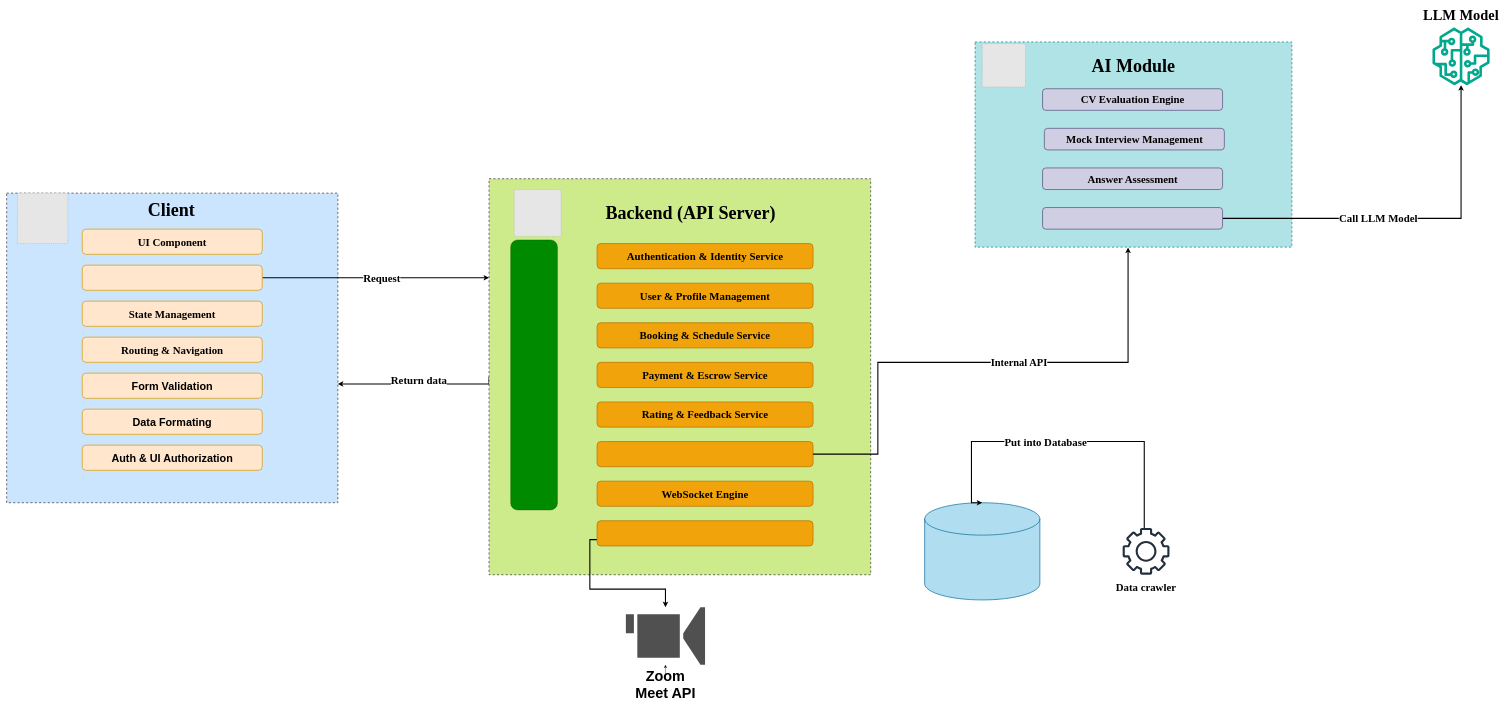
Some shapes in this 1510 by 708 pixel diagram are drawn without their labels. Grey dashed boxes stand in for pictures. The centre of each missing label's shape, as x and y in pixels:
"AI Integration Module" goes at point (705, 454).
"API Gateway" goes at point (533, 375).
"API Services" goes at point (172, 278).
"Database(PostgreSQL)" goes at point (982, 551).
"LLM Gateway & Prompt Manager" goes at point (1132, 218).
"Meeting Integration Management" goes at point (705, 533).
